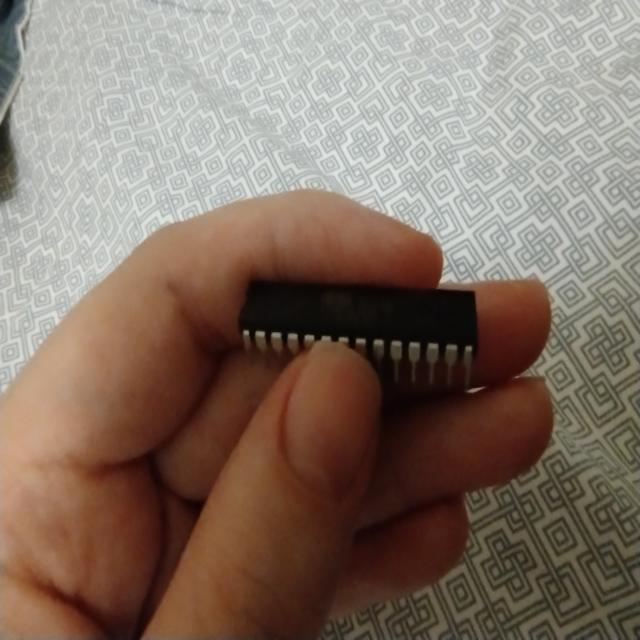atmega: (235, 276, 481, 404)
